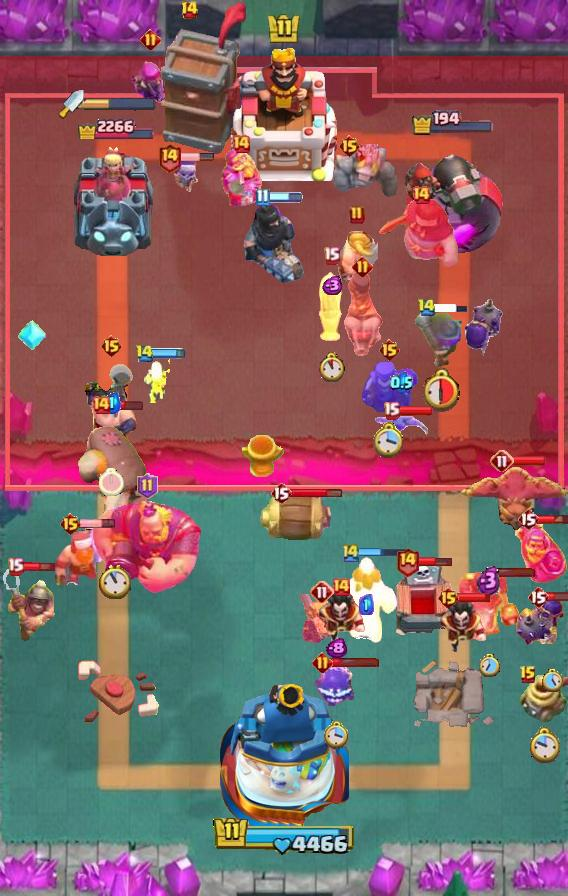archer-evolution: (130, 53, 170, 107)
bar: (359, 546, 411, 558), (290, 488, 343, 499), (330, 657, 380, 668), (486, 567, 536, 578), (21, 560, 56, 573), (511, 455, 547, 467), (398, 405, 434, 417), (433, 302, 469, 314), (109, 399, 144, 411), (79, 518, 116, 529), (417, 556, 453, 567), (267, 192, 303, 203), (151, 348, 186, 359), (457, 592, 491, 603), (537, 513, 568, 525), (179, 152, 215, 162), (546, 591, 568, 602)
bar-level: (395, 546, 420, 577), (157, 142, 182, 173), (310, 580, 334, 604), (490, 449, 514, 473), (437, 586, 460, 610), (59, 512, 82, 536), (378, 338, 401, 362), (100, 334, 123, 358), (338, 134, 361, 158), (137, 473, 158, 499), (527, 585, 549, 609), (517, 507, 539, 531), (270, 481, 292, 505), (312, 652, 333, 673), (352, 256, 373, 277), (140, 29, 161, 50), (341, 542, 361, 563), (331, 577, 351, 597), (91, 395, 111, 415), (411, 185, 431, 205), (231, 134, 251, 154), (180, 0, 199, 20), (135, 344, 154, 363), (417, 298, 436, 317), (519, 665, 537, 685), (7, 557, 24, 576), (383, 401, 400, 420), (323, 246, 340, 265), (349, 205, 365, 225), (255, 188, 270, 207)
barbarian-barrel: (259, 494, 335, 544)
barbarian-evolution: (299, 594, 345, 643)
bat-evolution: (372, 411, 430, 439)
bomber-evolution: (514, 594, 568, 650), (461, 297, 507, 361)
cannoneer-tower: (403, 138, 503, 256)
clock: (418, 366, 460, 412), (373, 420, 406, 458), (528, 726, 560, 765), (99, 564, 131, 599), (317, 352, 346, 383), (324, 721, 349, 750), (99, 468, 124, 496), (542, 669, 563, 692), (479, 654, 500, 677)
dagger-duchess-tower: (70, 142, 158, 256)
dagger-duchess-tower-bar: (84, 97, 156, 111)
electro-spirit: (312, 660, 360, 706)
electro-wizard: (437, 602, 487, 654), (316, 593, 366, 645)
elite-barbarian: (337, 229, 378, 284)
elixir: (477, 565, 501, 596), (390, 371, 413, 394), (326, 638, 347, 659), (320, 276, 343, 295), (102, 392, 121, 414), (359, 594, 374, 615)
executioner: (82, 363, 140, 449)
golemite: (332, 144, 398, 204)
ice-spirit-evolution-symbol: (18, 318, 46, 352)
king-tower: (220, 678, 349, 826), (231, 45, 337, 181)
king-tower-bar: (213, 815, 356, 857)
knight-evolution: (515, 518, 568, 583), (218, 146, 264, 208)
lumberjack: (52, 521, 118, 585)
miner: (0, 567, 58, 645)
mother-witch: (359, 360, 419, 416)
musketeer: (413, 310, 465, 370)
ram-rider: (340, 270, 384, 356)
royal-hog: (315, 270, 347, 344)
skeleton: (144, 357, 176, 403)
skeleton-evolution: (169, 159, 201, 199)
tower-bar: (411, 110, 495, 136), (75, 113, 154, 139)
zappy: (520, 674, 568, 722)
